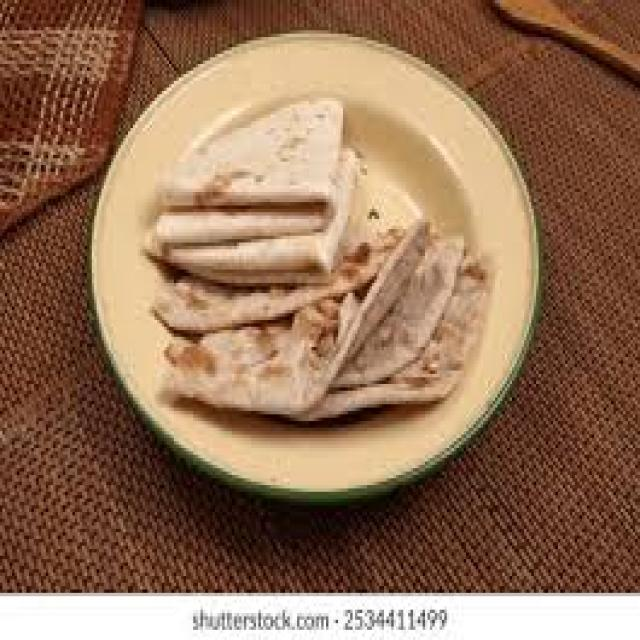ROTI: (140, 94, 490, 414)
